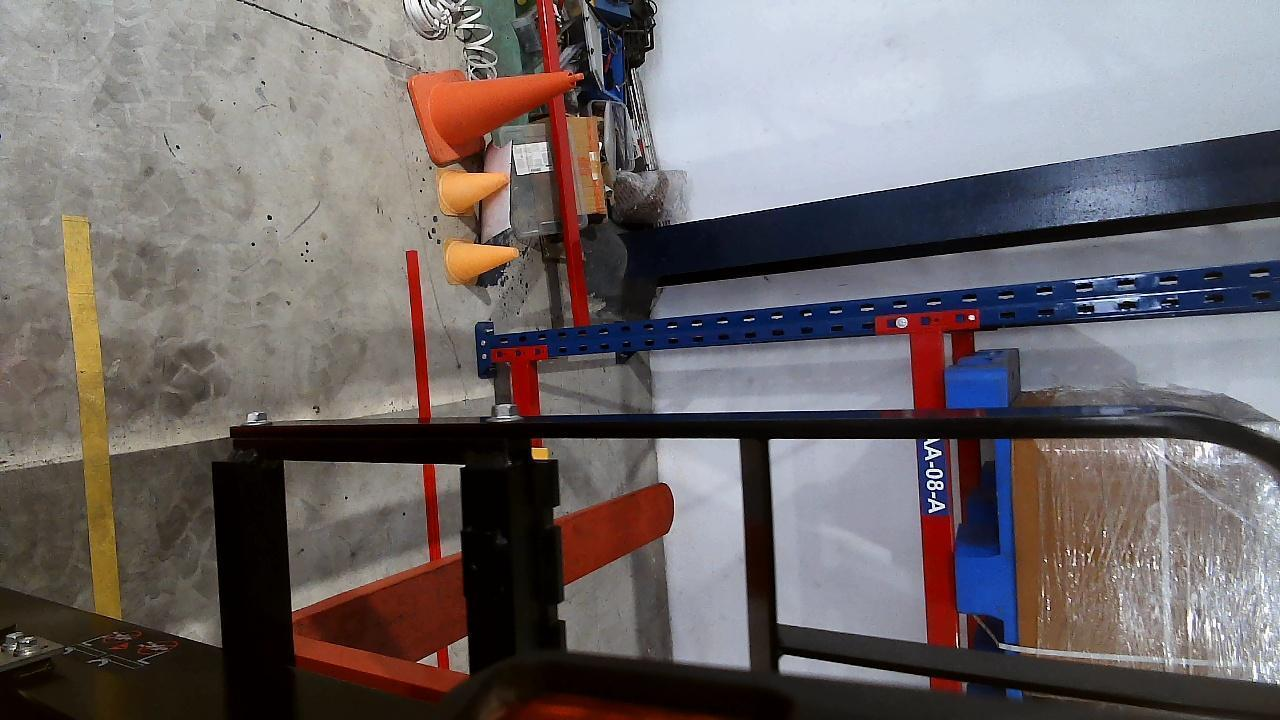red_line: (404, 249, 449, 555)
yellow_line: (58, 215, 119, 619)
